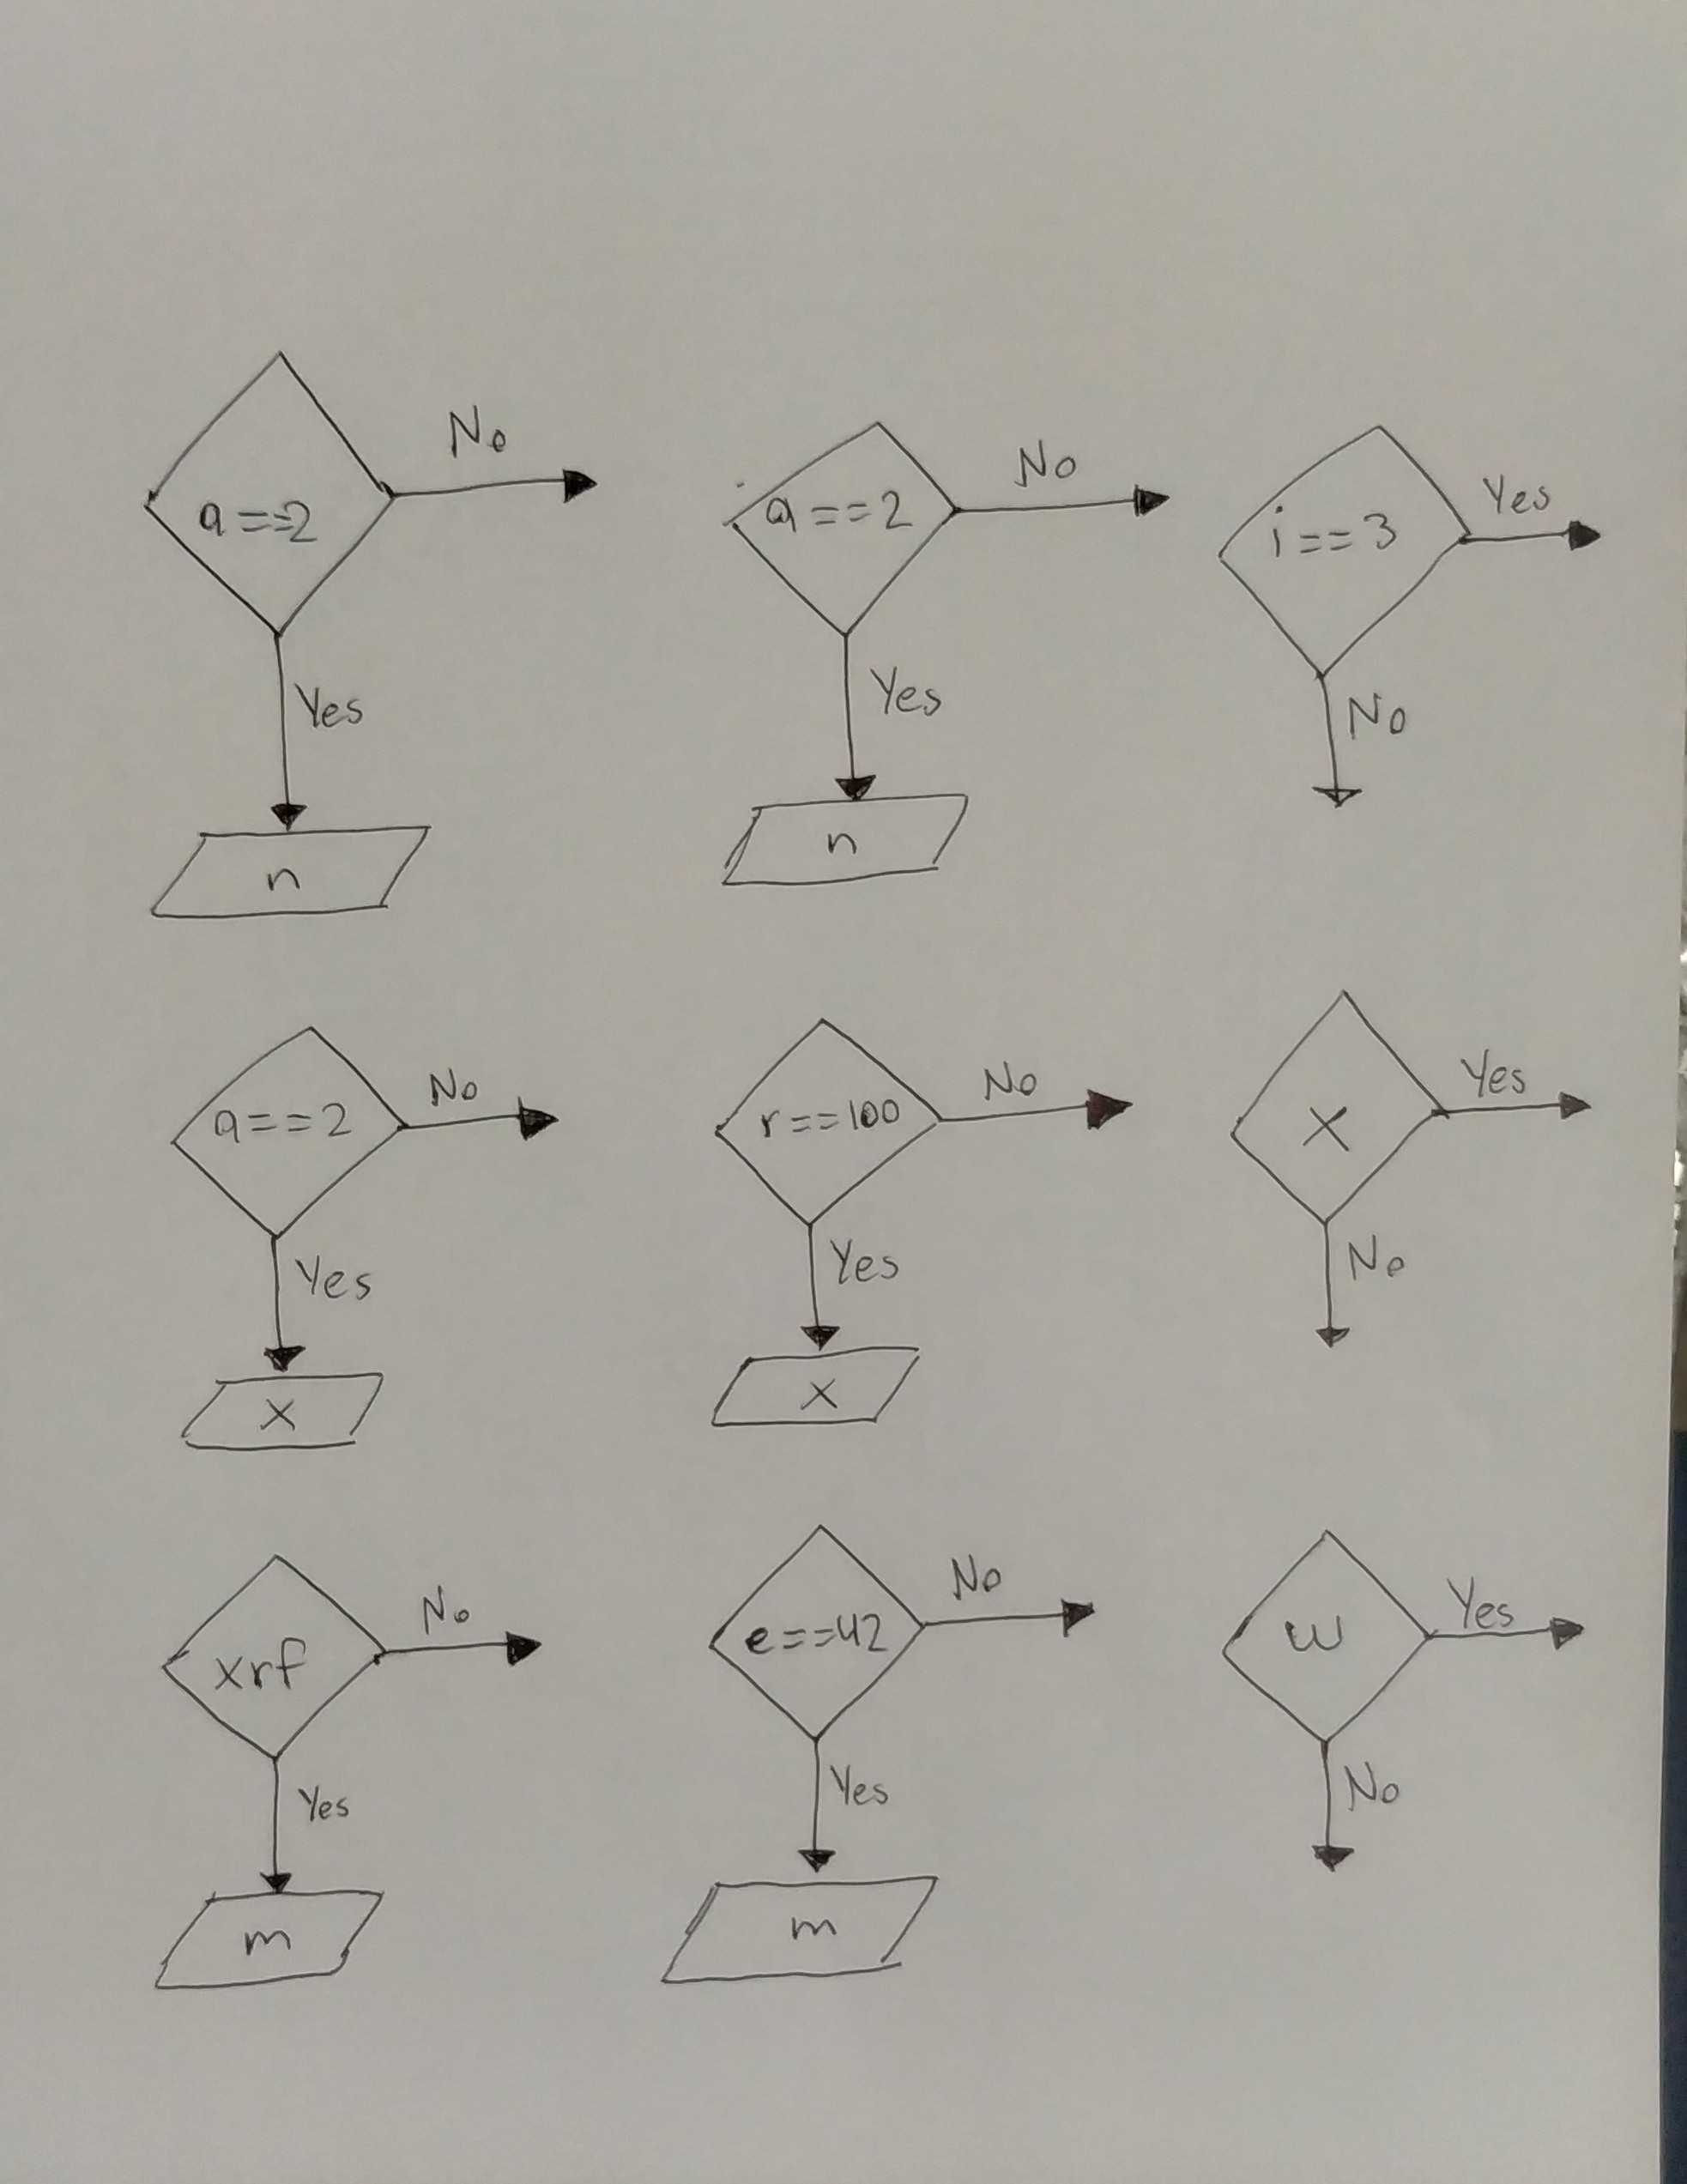arrow_line_down: (253, 632, 324, 833), (824, 632, 886, 802), (1304, 1736, 1368, 1886), (1304, 677, 1373, 815), (1302, 1215, 1368, 1359), (785, 1217, 845, 1355), (253, 1235, 308, 1375), (794, 1736, 842, 1881), (257, 1757, 299, 1899)
arrow_line_right: (955, 471, 1182, 537), (388, 452, 608, 517), (937, 1077, 1145, 1139), (920, 1585, 1113, 1651), (1427, 1603, 1597, 1665), (404, 1093, 569, 1155), (379, 1619, 553, 1677), (1441, 1075, 1597, 1135), (1462, 508, 1616, 565)
decision: (136, 340, 395, 643), (1210, 418, 1492, 680), (714, 407, 971, 647), (161, 1018, 416, 1254), (1221, 978, 1455, 1224), (702, 1003, 952, 1233), (152, 1541, 395, 1773), (698, 1513, 932, 1748), (1210, 1522, 1439, 1750)
scan: (647, 1870, 959, 1994), (709, 788, 994, 905), (145, 1874, 402, 2000), (140, 822, 445, 926), (698, 1337, 943, 1438), (175, 1367, 399, 1465)
